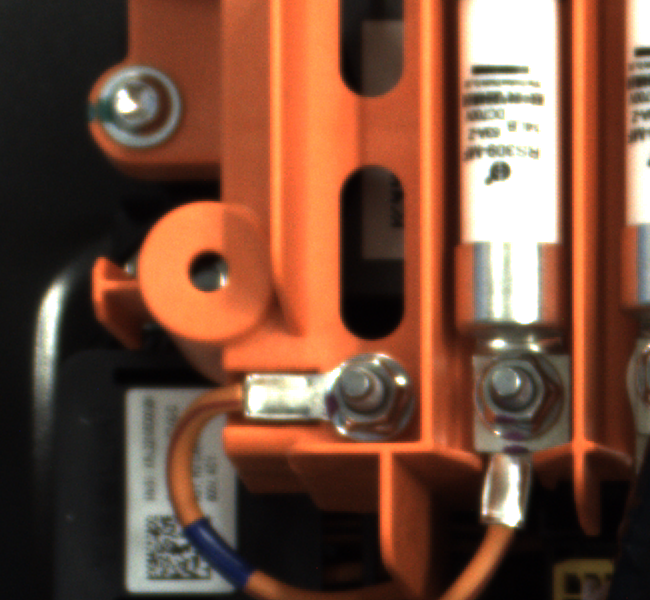screw_m: (82, 63, 189, 157)
screw_s: (462, 348, 580, 457), (311, 340, 413, 444)
